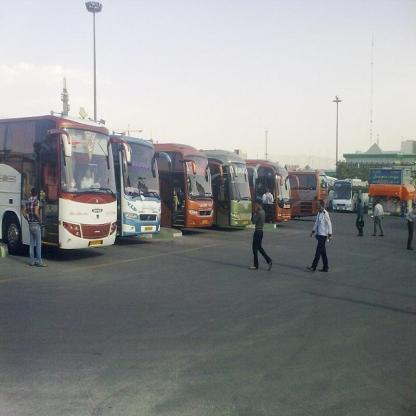Bus: (0, 113, 118, 248), (153, 136, 219, 226), (114, 133, 165, 241), (208, 145, 260, 225), (256, 155, 294, 224), (290, 166, 326, 221), (335, 173, 370, 210)
